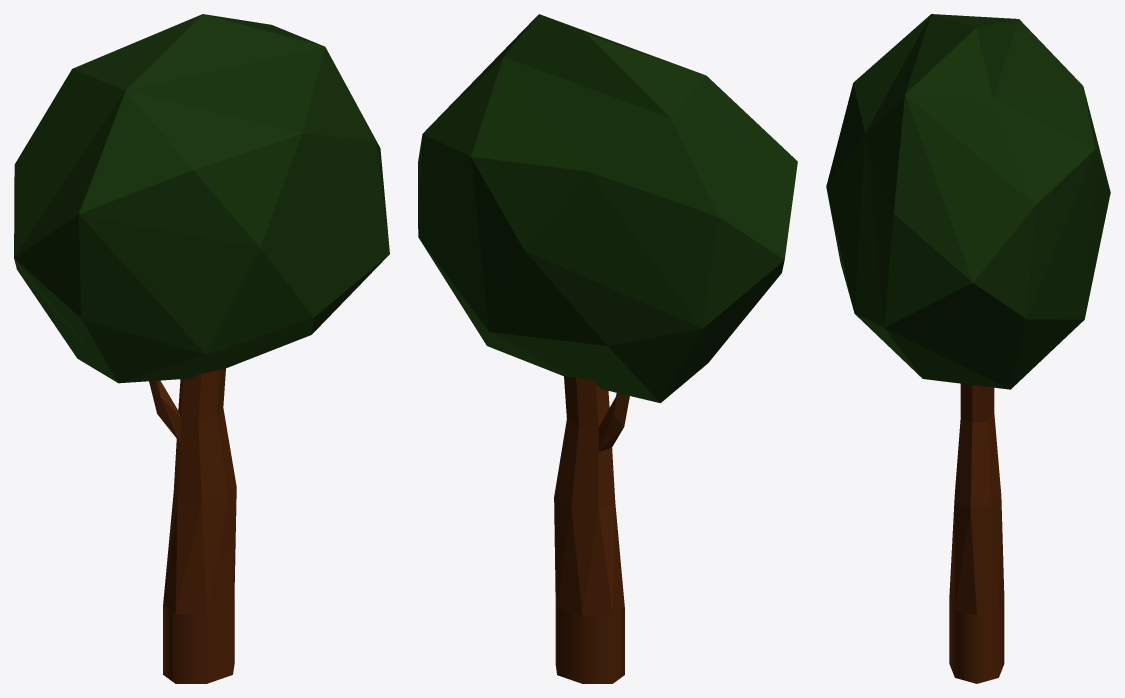
File: tree 1.fbx
The picture shows the model from 3 angles, left to right: view 1: azimuth 30°, elevation 25°; view 2: azimuth 150°, elevation 25°; view 3: azimuth 270°, elevation 25°; orthographic projection. The views are drawn at different scales.
Visible parts, largest first — view 1: tree 1; view 2: tree 1; view 3: tree 1.
Part boxes in pixels (x1,y1,x2,y2): tree 1: [14, 14, 389, 683]; tree 1: [418, 14, 797, 683]; tree 1: [826, 14, 1110, 683].
Size of the model in its own units: 1897 by 1287 by 3201.
